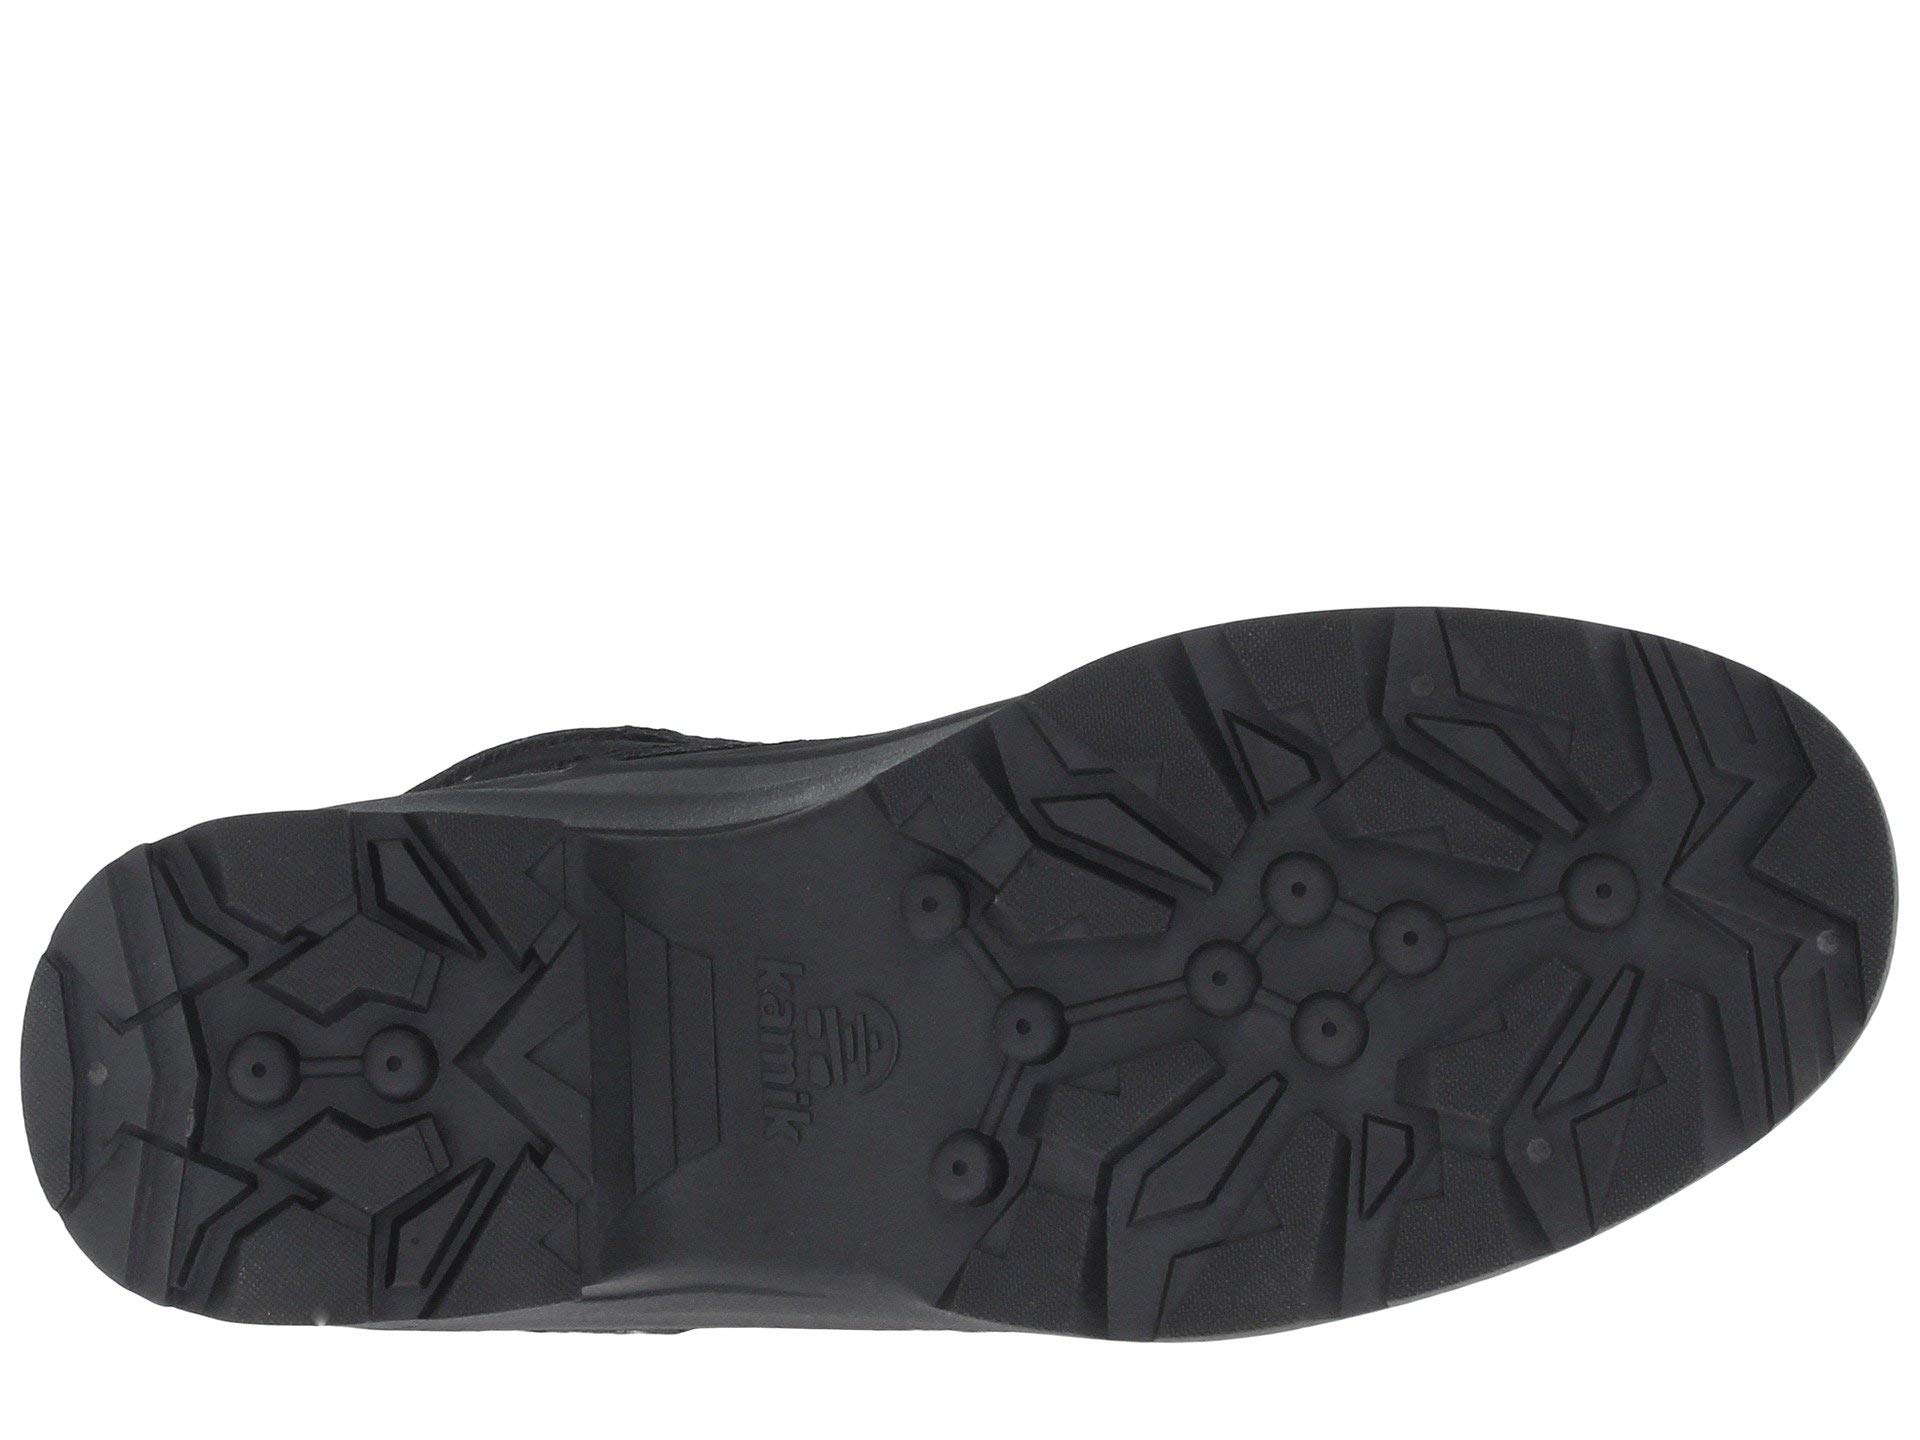circle: (983, 933, 1379, 1085), (207, 1006, 458, 1116), (1544, 841, 1663, 954), (906, 846, 980, 959)
exclude: (582, 790, 952, 1311)
quad: (983, 933, 1379, 1085), (1191, 685, 1386, 858), (316, 808, 500, 964), (207, 1006, 458, 1116), (1510, 961, 1671, 1119), (358, 1147, 528, 1290), (1335, 1091, 1430, 1242)
triangle: (488, 997, 596, 1110)
